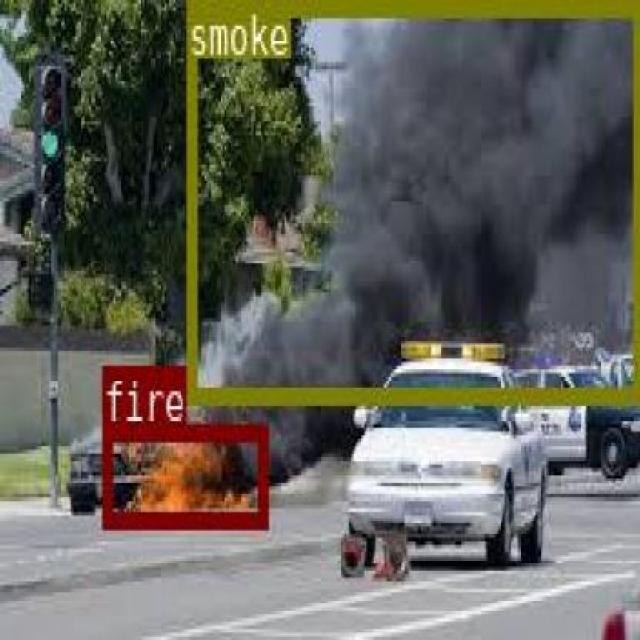Fire: (100, 422, 266, 526)
Smoke: (184, 0, 640, 401)
